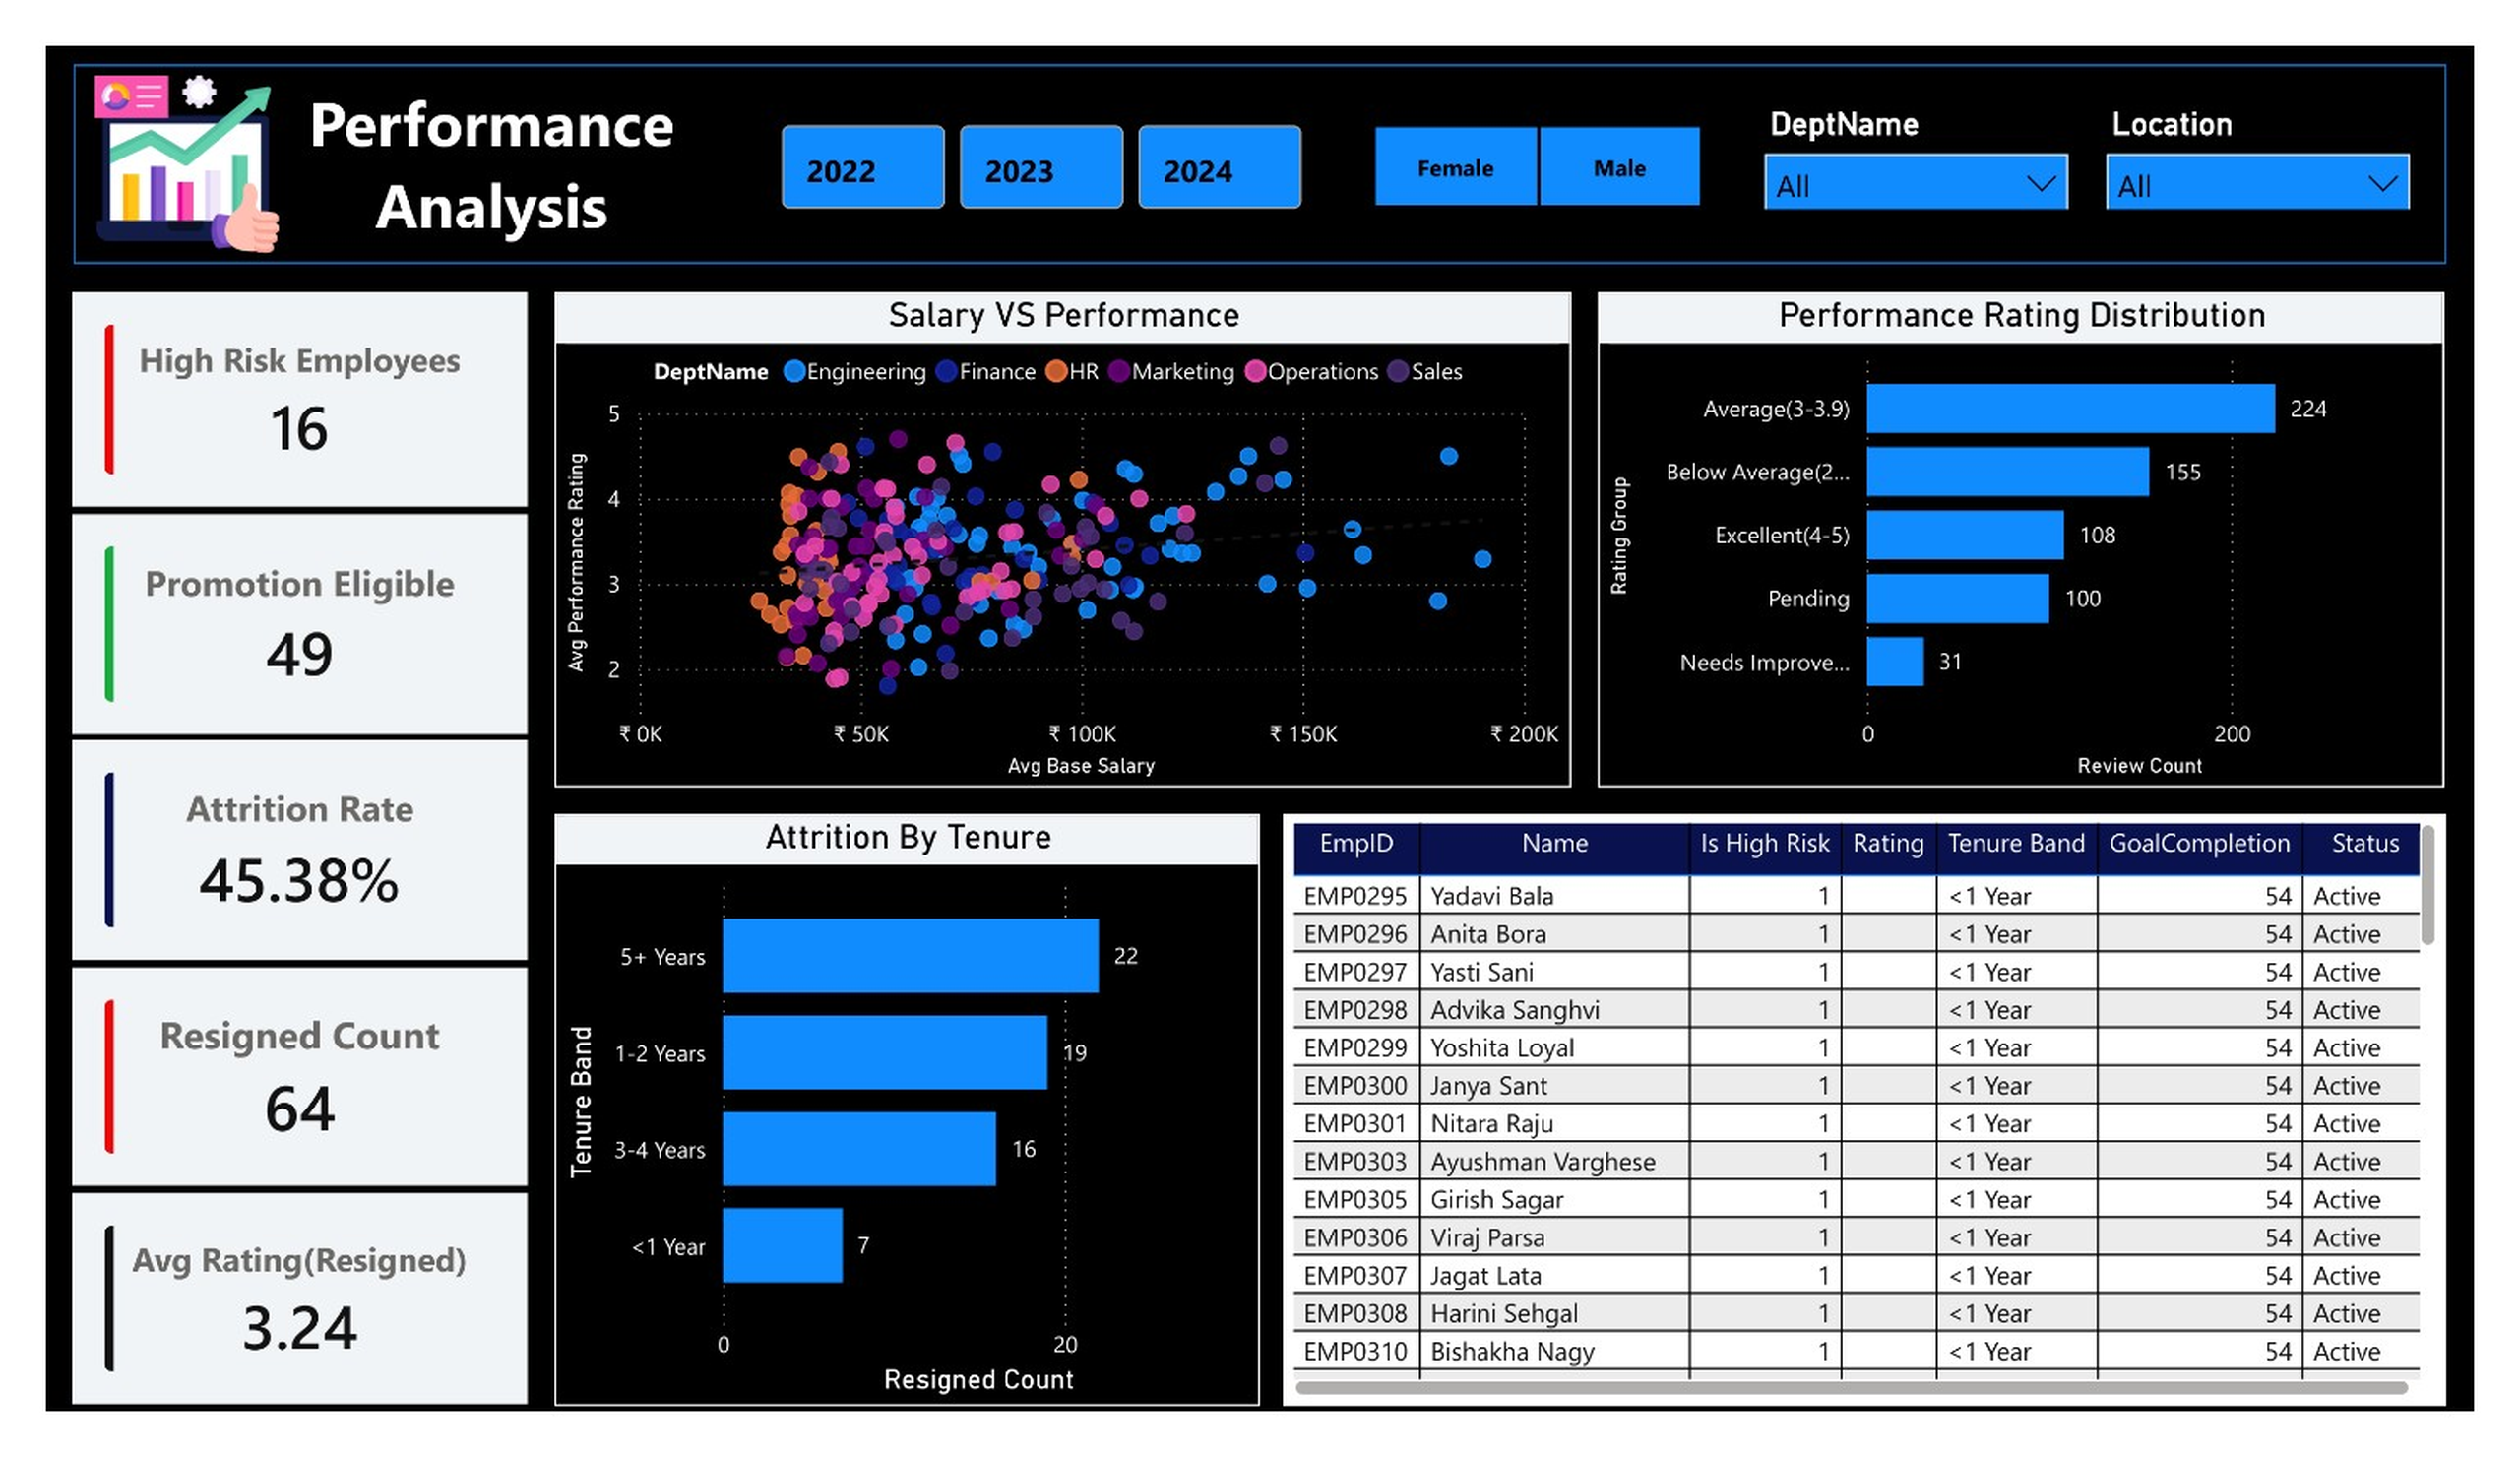

The page's visual inventory and layout, read from the dashboard file:
{"tool":"powerbi","page":{"name":"Performance","canvas":[1280,720],"ordinal":4},"visuals":[{"type":"cardVisual","fields":{"Data":["_measure.Resigned Count"]},"box":[14.4,485.6,240,115.2],"z":0},{"type":"cardVisual","fields":{"Data":["_measure.Attrition Rate"]},"box":[14.4,366.5,240,115.2],"z":1000},{"type":"cardVisual","fields":{"Data":["_measure.Avg Rating(Resigned)"]},"box":[14.4,604.8,240,111],"z":2000},{"type":"cardVisual","fields":{"Data":["_measure.High Risk Employees"]},"box":[14.3,130.4,240,112.5],"z":3000},{"type":"cardVisual","fields":{"Data":["_measure.Promotion Eligible"]},"box":[14.4,247.3,240,115.2],"z":4000},{"type":"barChart","title":"Performance Rating Distribution","fields":{"Category":["Performance.Rating Group"],"Y":["_measure.Review Count"]},"box":[817.9,130.4,446.4,260.7],"z":5000},{"type":"barChart","title":"Attrition By Tenure","fields":{"Category":["Employees.Tenure Band"],"Y":["_measure.Resigned Count"]},"box":[268.3,405,371.7,311.7],"z":6000},{"type":"scatterChart","title":"Salary vs Performance","fields":{"X":["_measure.Avg Base Salary"],"Y":["_measure.Avg Performance Rating"],"Category":["Employees.EmpID"],"Series":["Departments.DeptName"]},"box":[267.9,130.4,535.7,260.7],"z":7000},{"type":"shape","box":[15,10,1250,105],"z":8000},{"type":"advancedSlicerVisual","fields":{"Values":["DateTable.Year"]},"box":[383.4,36.6,283.9,54.1],"z":9000},{"type":"slicer","fields":{"Values":["Employees.Gender"]},"box":[675.4,36,220.3,54.7],"z":10000},{"type":"slicer","fields":{"Values":["Departments.DeptName"]},"box":[895.7,25.9,180,60.5],"z":11000},{"type":"slicer","fields":{"Values":["Locations.City"]},"box":[1075.7,25.9,180,60.5],"z":12000},{"type":"textbox","box":[114.1,13.2,241.5,98],"z":13000},{"type":"tableEx","fields":{"Values":["Employees.EmpID","Employees.Name","_measure.Is High Risk","Performance.Rating","Employees.Tenure Band","Performance.GoalCompletion","Employees.Status"]},"box":[651.7,405,613.3,311.7],"z":14000},{"type":"image","box":[14.3,14.3,119.6,96.4],"z":15000}]}

Visuals, with their boxes in screenshot pixels (x1, y1, x2, y2), scaled from the page's 1280x720 canvas onto the 2520x1457 screenshot:
cardVisual - _measure.Resigned Count: bbox(29, 982, 501, 1216)
cardVisual - _measure.Attrition Rate: bbox(29, 741, 501, 975)
cardVisual - _measure.Avg Rating(Resigned): bbox(29, 1224, 501, 1448)
cardVisual - _measure.High Risk Employees: bbox(29, 264, 501, 491)
cardVisual - _measure.Promotion Eligible: bbox(29, 500, 501, 733)
"Performance Rating Distribution" barChart: bbox(1610, 264, 2489, 792)
"Attrition By Tenure" barChart: bbox(529, 819, 1260, 1450)
"Salary vs Performance" scatterChart: bbox(528, 264, 1582, 792)
shape: bbox(30, 21, 2490, 232)
advancedSlicerVisual - DateTable.Year: bbox(755, 74, 1314, 183)
slicer - Employees.Gender: bbox(1330, 73, 1763, 183)
slicer - Departments.DeptName: bbox(1763, 52, 2117, 175)
slicer - Locations.City: bbox(2117, 52, 2472, 175)
textbox: bbox(224, 27, 700, 225)
tableEx - Employees.EmpID x Employees.Name: bbox(1283, 819, 2490, 1450)
image: bbox(29, 29, 264, 224)
